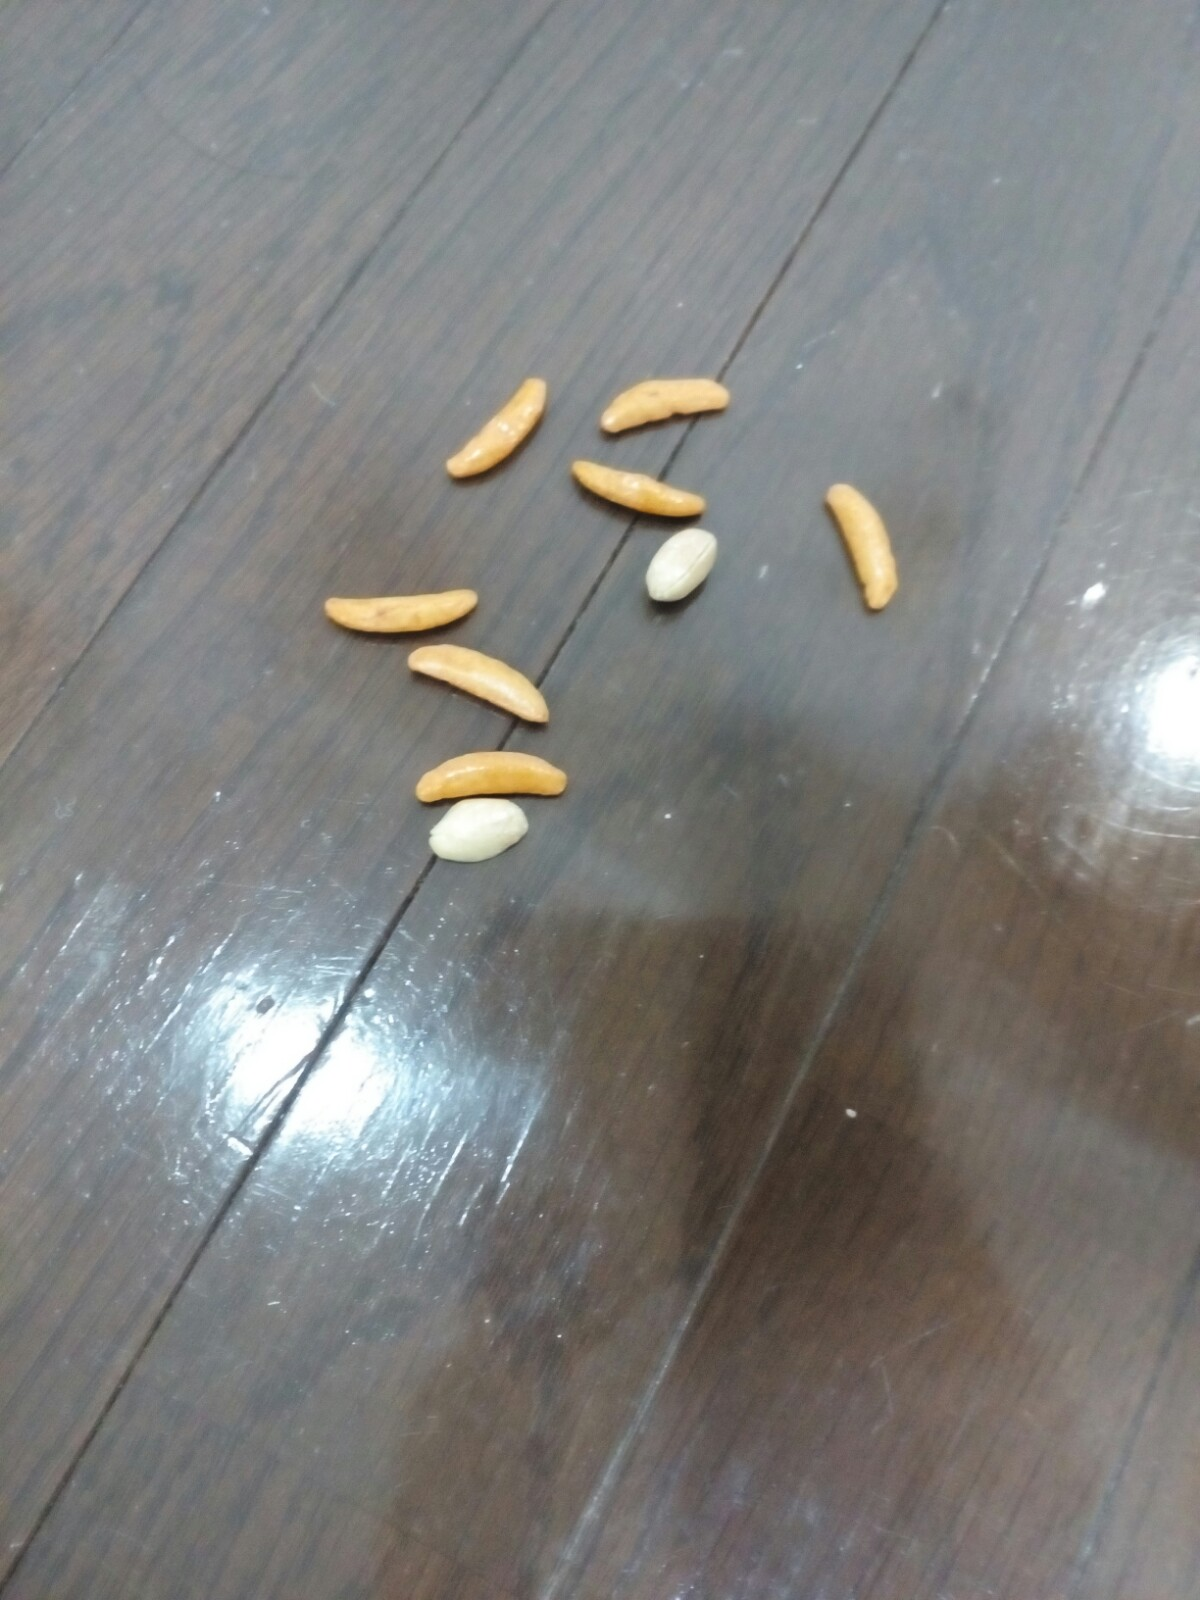peanut: (424, 780, 541, 874), (643, 522, 739, 619)
